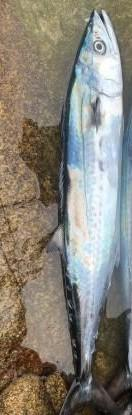fish: (46, 10, 123, 414)
